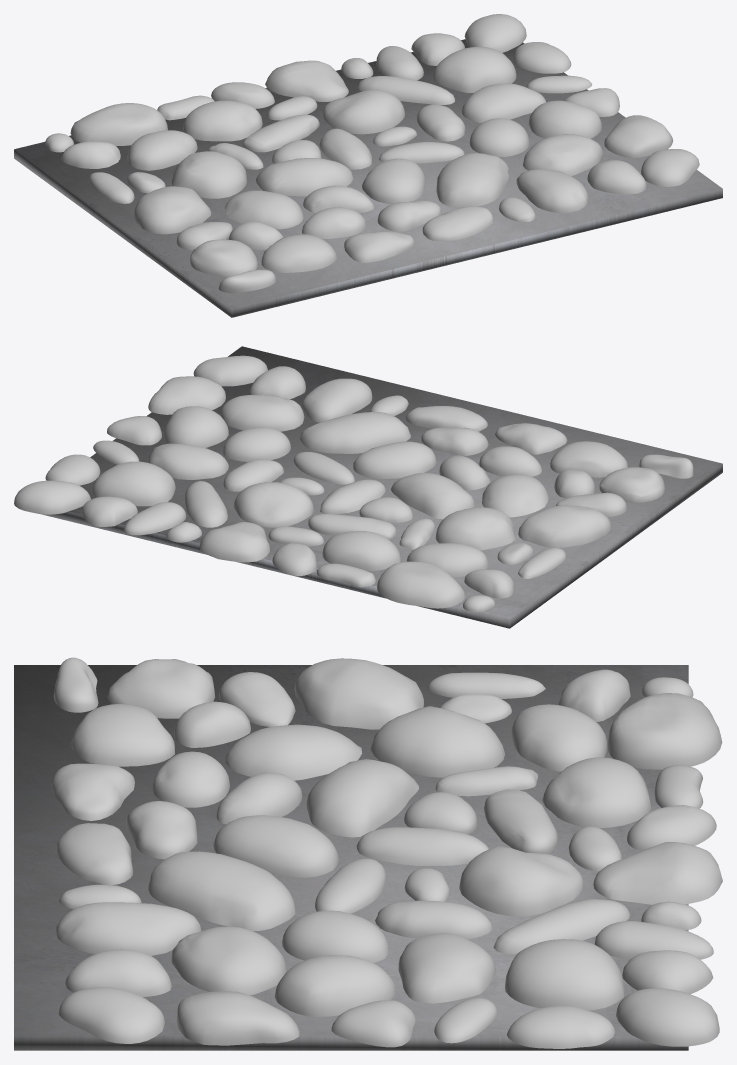
File: fauxRockPanel.fbx
3 views of the same model, one above another, from view 1: azimuth 30°, elevation 25°; view 2: azimuth 150°, elevation 25°; view 3: azimuth 270°, elevation 25° (orthographic). The views are drawn at different scales.
Visible parts, largest first — view 1: Plane; view 2: Plane; view 3: Plane.
Boxes of the visible parts, bbox=[...] form: Plane: bbox=[14, 14, 722, 317]; Plane: bbox=[14, 346, 722, 628]; Plane: bbox=[14, 657, 722, 1050].
Size of the model in its own units: 1.3 by 0.0801 by 1.01.
